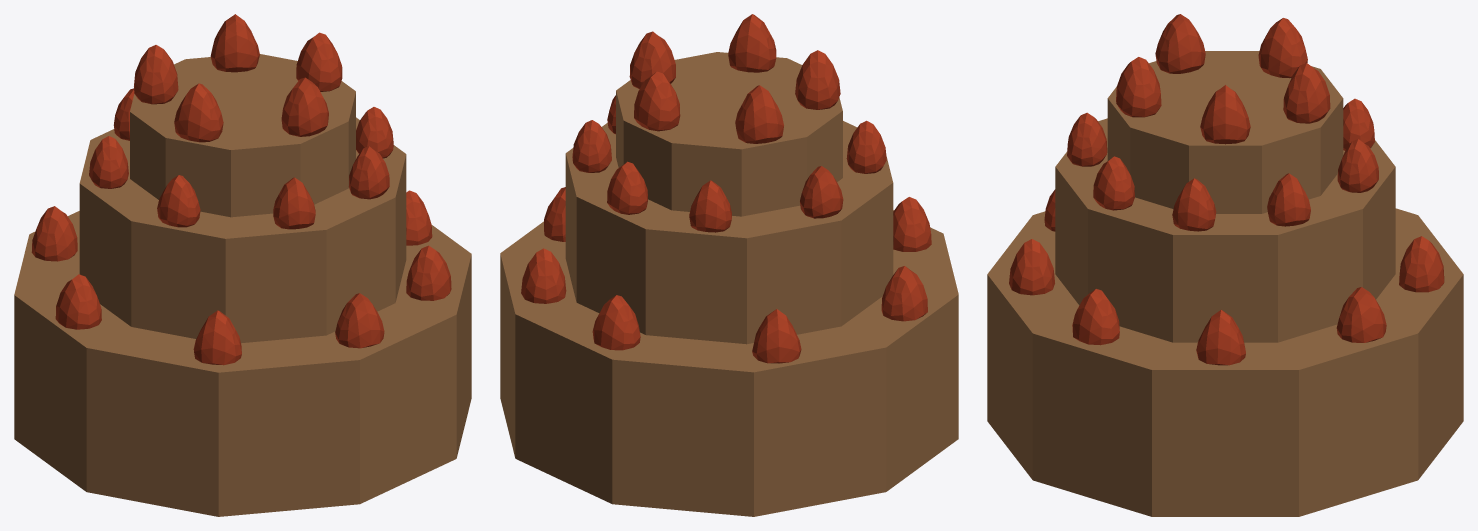
Rendered from Cake by Zsky - IIRsjGB8mA.glb.
3 renders of one model, left to right at view 1: azimuth 30°, elevation 25°; view 2: azimuth 150°, elevation 25°; view 3: azimuth 270°, elevation 25°, orthographic.
Parts seen in each view (by area): view 1: Cake_Cube.027; view 2: Cake_Cube.027; view 3: Cake_Cube.027.
Part boxes in pixels (x1,y1,x2,y2): Cake_Cube.027: (14,14,471,516); Cake_Cube.027: (500,14,958,516); Cake_Cube.027: (987,14,1463,516).
Bounding box in the file's own units: 0.8699 × 0.7932 × 0.9147.
